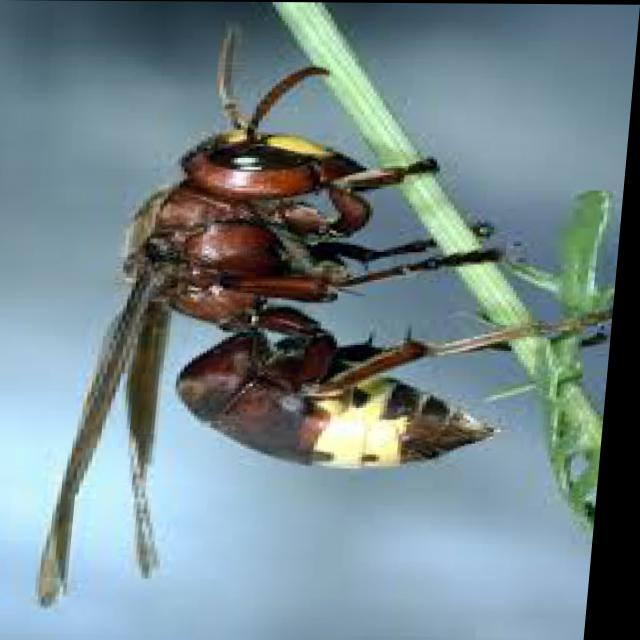Vespa Orientalis: (4, 9, 596, 610)
